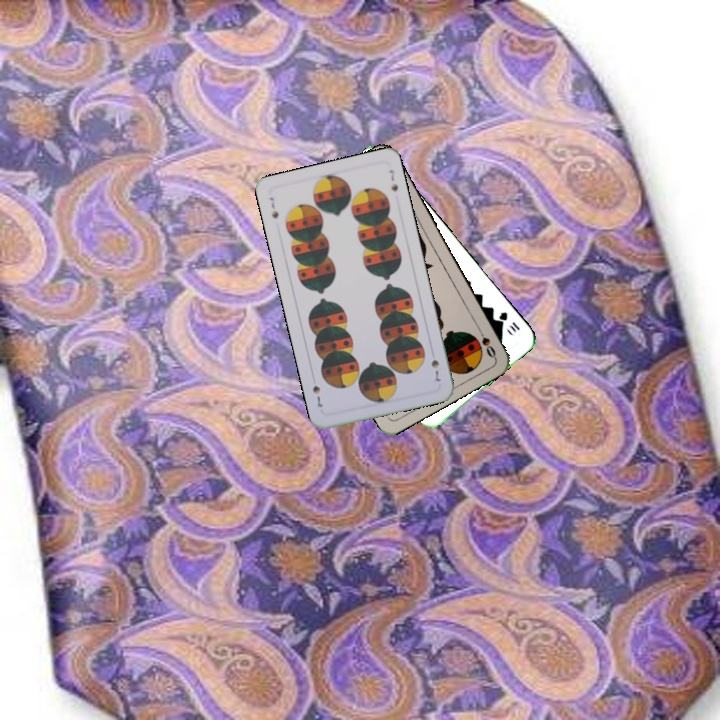G10: (494, 308, 523, 334)
S7: (427, 355, 443, 384), (265, 193, 281, 221)
SO: (473, 323, 498, 361)
